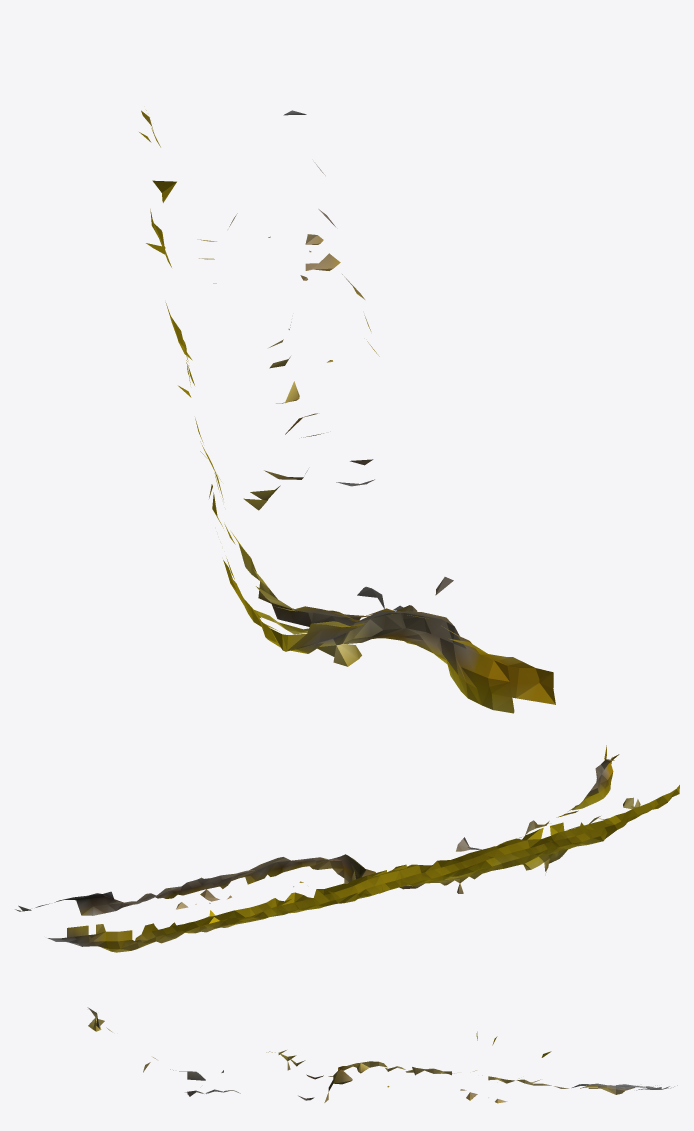
The picture shows the model from 3 angles, top to bottom: view 1: azimuth 30°, elevation 25°; view 2: azimuth 150°, elevation 25°; view 3: azimuth 270°, elevation 25°; orthographic projection. The views are drawn at different scales.
Parts seen in each view (by area): view 1: world; view 2: world; view 3: world.
Boxes of the visible parts, x1,y1,x2,y2 form: world: (139, 110, 555, 713); world: (15, 745, 679, 952); world: (87, 1007, 677, 1103).
Size of the model in its own units: 0.0748 by 0.02 by 0.146.
